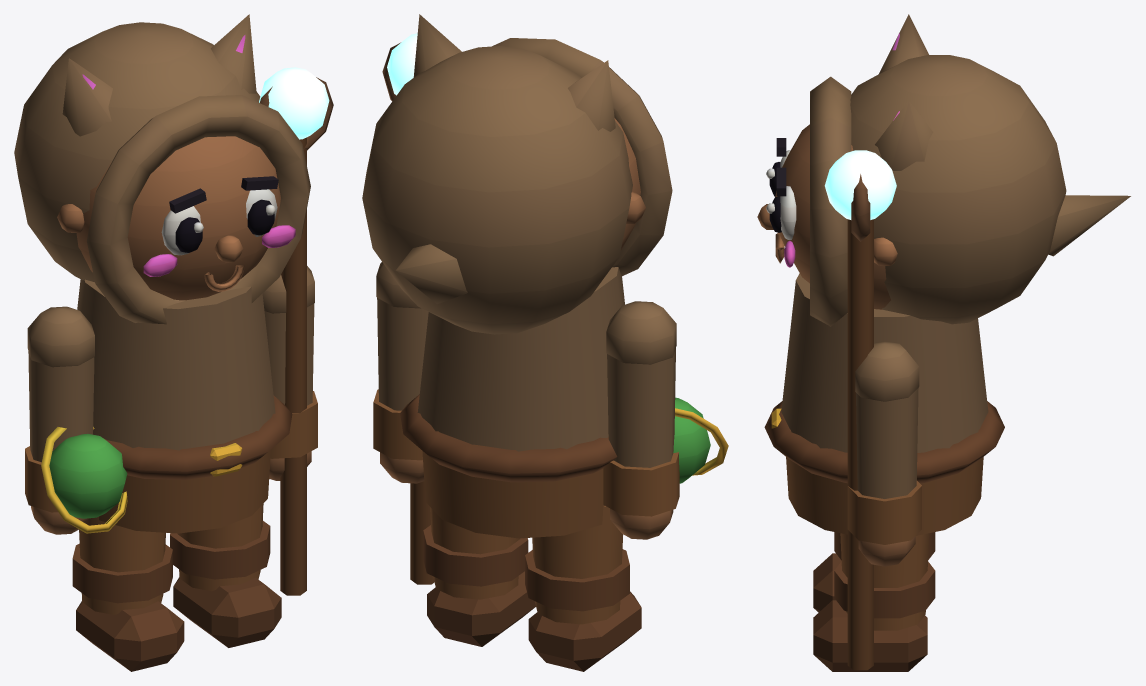
File: hero_ursa.glb
The picture shows the model from 3 angles, left to right: view 1: azimuth 30°, elevation 25°; view 2: azimuth 150°, elevation 25°; view 3: azimuth 270°, elevation 25°; orthographic projection. The views are drawn at different scales.
Parts seen in each view (by area): view 1: body_t0_palette, arml_t0_palette, armr_t0_palette, legl_t0_palette, legr_t0_palette, armr_t0_glow_teal; view 2: body_t0_palette, arml_t0_palette, legl_t0_palette, legr_t0_palette, armr_t0_palette, armr_t0_glow_teal; view 3: body_t0_palette, armr_t0_palette, legr_t0_palette, armr_t0_glow_teal, legl_t0_palette.
Part boxes in pixels (box(x1,y1,x2,y2)): body_t0_palette: box(14, 14, 310, 533); arml_t0_palette: box(25, 306, 127, 534); armr_t0_palette: box(259, 77, 333, 595); legl_t0_palette: box(72, 517, 184, 671); legr_t0_palette: box(170, 503, 281, 647); armr_t0_glow_teal: box(259, 67, 329, 139); body_t0_palette: box(362, 14, 672, 538); arml_t0_palette: box(603, 301, 728, 539); legl_t0_palette: box(525, 506, 641, 671); legr_t0_palette: box(423, 507, 535, 646); armr_t0_palette: box(373, 42, 434, 584); armr_t0_glow_teal: box(387, 33, 417, 95); body_t0_palette: box(757, 14, 1130, 535); armr_t0_palette: box(847, 174, 921, 670); legr_t0_palette: box(813, 533, 935, 671); armr_t0_glow_teal: box(824, 150, 896, 219); legl_t0_palette: box(813, 532, 935, 612).
Size of the model in its own units: 0.292 by 0.5344 by 0.3112.
